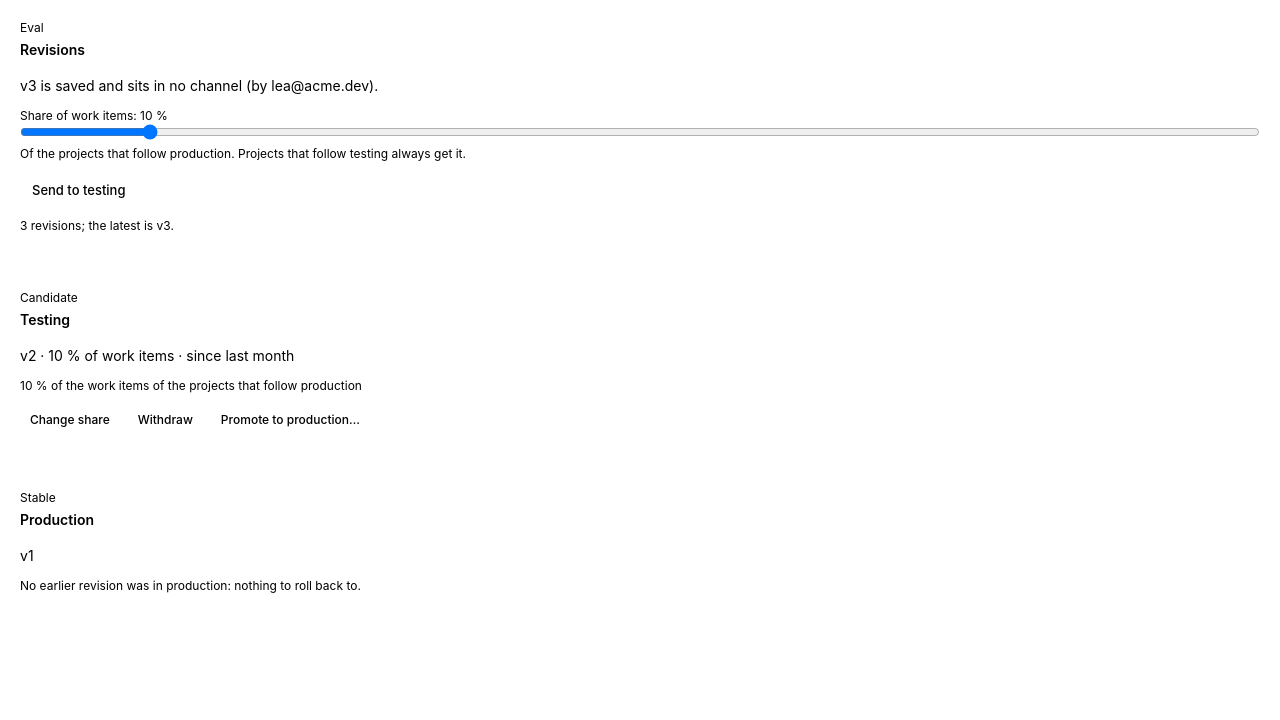
Test: the pipeline › says before the click that a stale sign-in will ask for a new one, and that approvals are needed
Click the button "Promote to production…": (290,420) [211, 406, 370, 434]
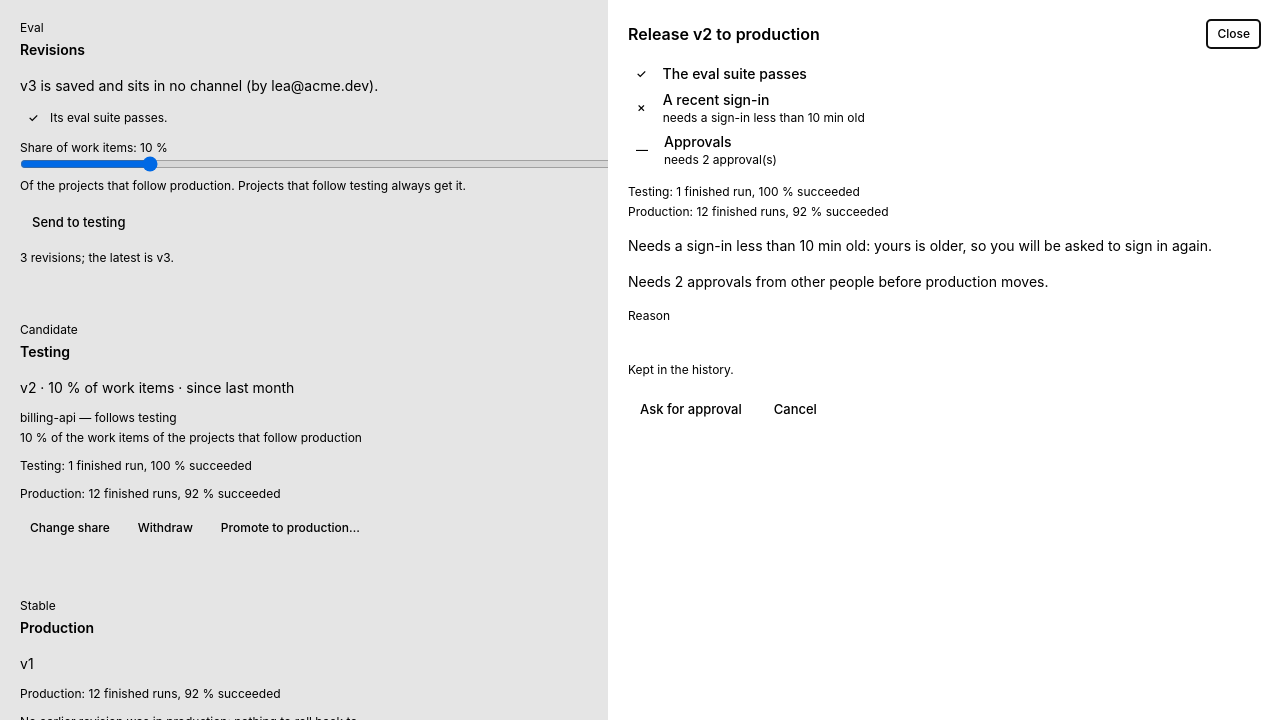
expect the text with test id "needs-sign-in" shows "yours is older, so you will be asked to sign in again": met, box [628, 237, 1212, 254]
expect the text with test id "needs-approvals" shows "Needs 2 approvals from other people before production moves": met, box [628, 273, 1048, 290]
expect the button "Ask for approval" is enabled: met, box [628, 394, 754, 426]
